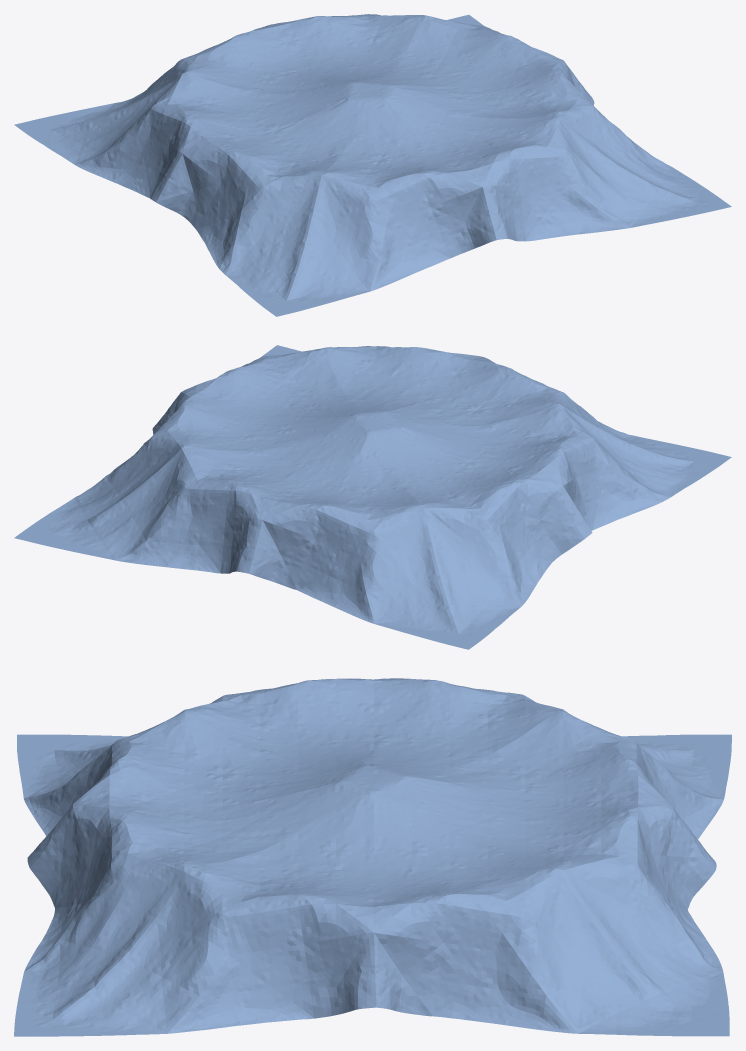
File: level_3.glb
The picture shows the model from 3 angles, top to bottom: view 1: azimuth 30°, elevation 25°; view 2: azimuth 150°, elevation 25°; view 3: azimuth 270°, elevation 25°; orthographic projection. The views are drawn at different scales.
Visible parts, largest first — view 1: world; view 2: world; view 3: world.
Boxes of the visible parts, <box> form: world: <box>14,14,731,316</box>; world: <box>14,345,731,649</box>; world: <box>14,678,731,1036</box>.
Size of the model in its own units: 0.6012 by 0.0977 by 0.6038.
